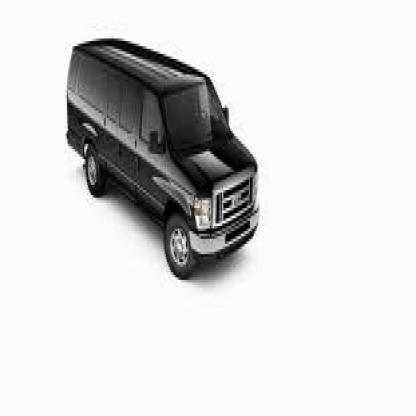Vehicle: (64, 26, 264, 288)
